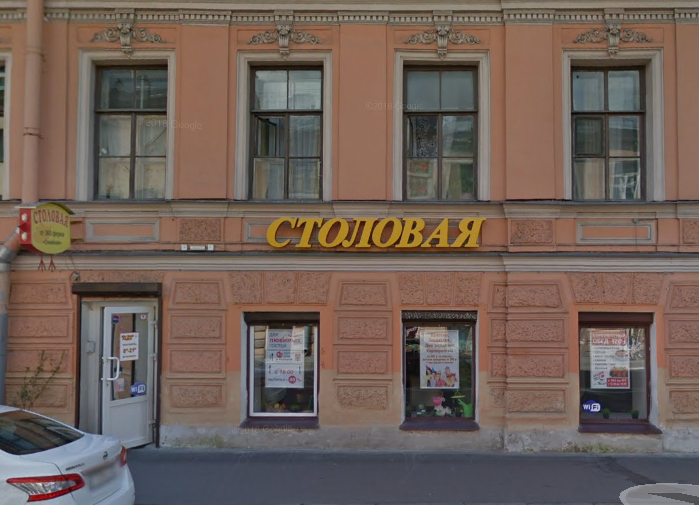cantilever: (13, 192, 87, 272)
door: (84, 300, 159, 444)
signboard: (263, 208, 489, 255)
window: (95, 58, 172, 195), (402, 66, 479, 200), (250, 62, 323, 199), (574, 64, 642, 202), (252, 310, 319, 418), (585, 317, 650, 427), (405, 312, 469, 421)
